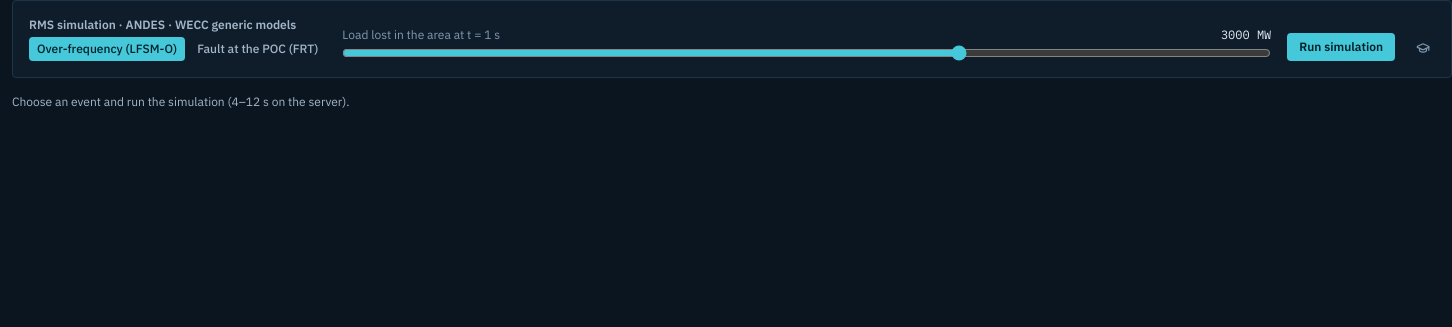
ANDES dynamics › switches to the fault event
Click the button "Fault at the POC (FRT)" at (258, 49), box left=189, top=37, right=326, bottom=61
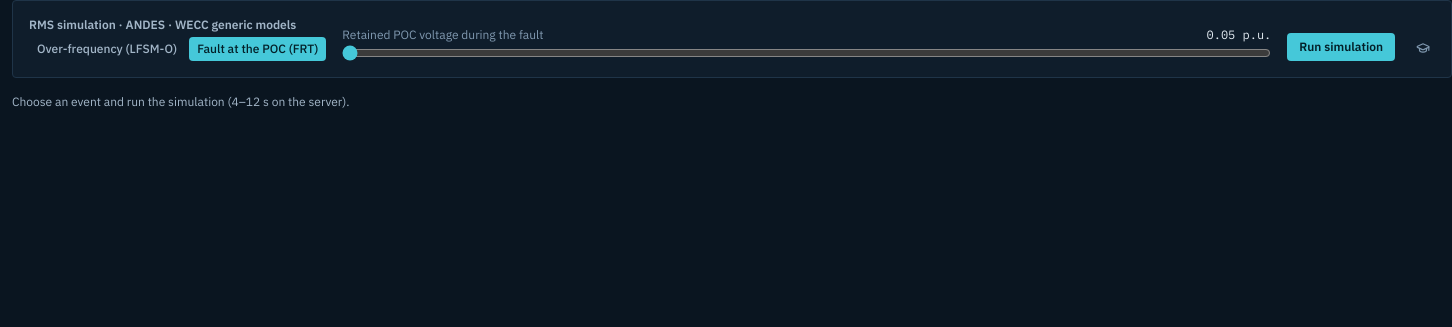
Click the button "Run simulation" at (1341, 47), box left=1287, top=33, right=1395, bottom=61
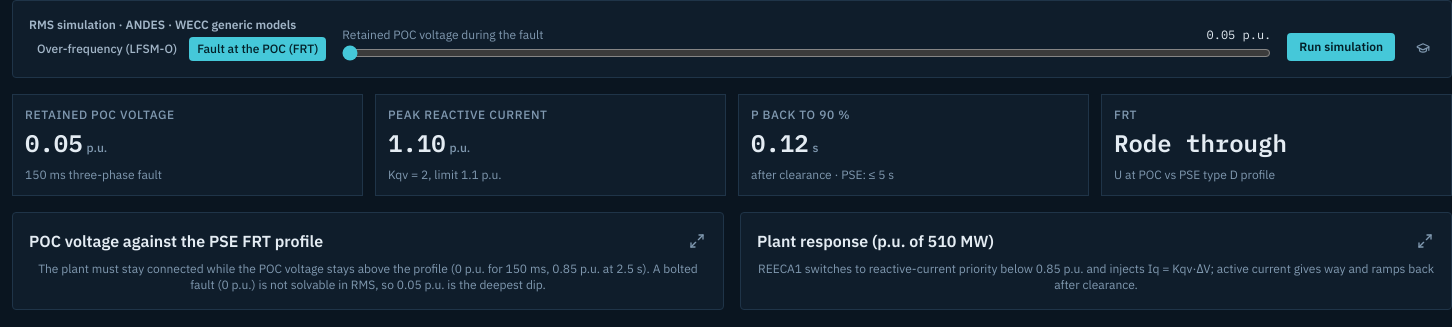
Expected: the text "Rode through" is shown, left=1114, top=127, right=1287, bottom=159
Expected: the text "1.10" is shown, left=388, top=127, right=446, bottom=159
